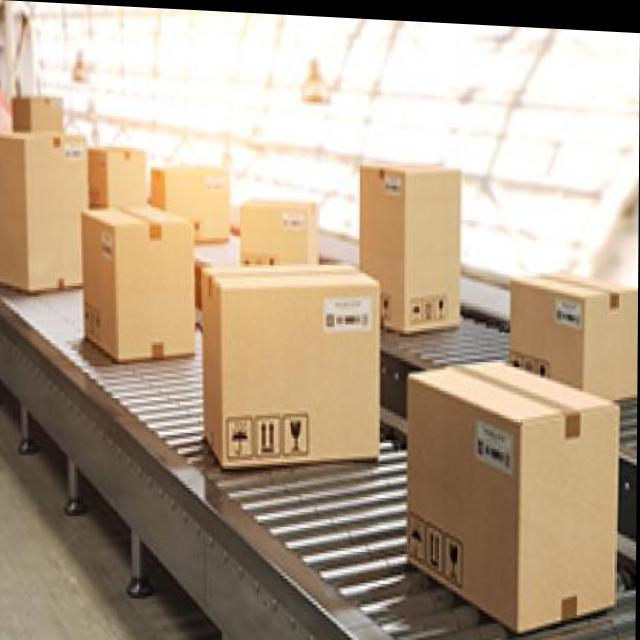box: (398, 347, 637, 640), (199, 257, 386, 478), (351, 137, 469, 335), (502, 253, 637, 413), (77, 200, 201, 365), (0, 123, 91, 304), (145, 144, 236, 250), (234, 185, 331, 277), (86, 128, 155, 222)
